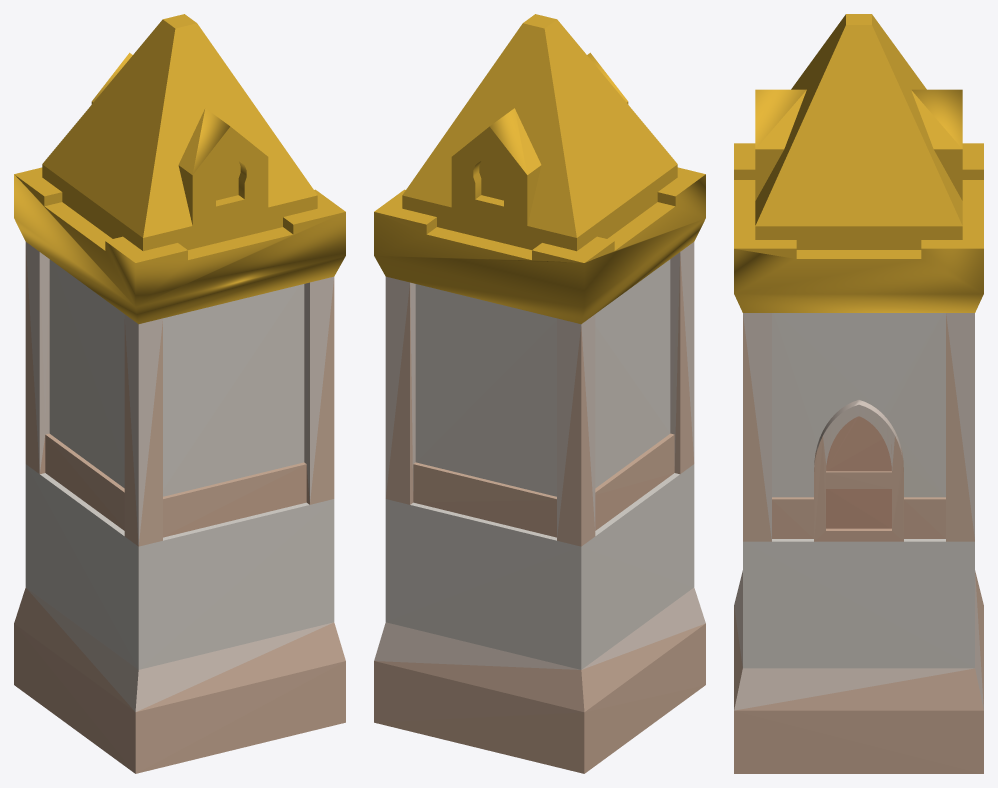
Rendered from dtower_l1.glb.
3 renders of one model, left to right at view 1: azimuth 30°, elevation 25°; view 2: azimuth 150°, elevation 25°; view 3: azimuth 270°, elevation 25°, orthographic. The views are drawn at different scales.
Visible parts, largest first — view 1: dtower_l1; view 2: dtower_l1; view 3: dtower_l1.
Part boxes in pixels (x1,y1,x2,y2): dtower_l1: [14, 14, 345, 773]; dtower_l1: [374, 14, 705, 773]; dtower_l1: [734, 14, 983, 773].
Size of the model in its own units: 1.6 by 4.96 by 1.6.
